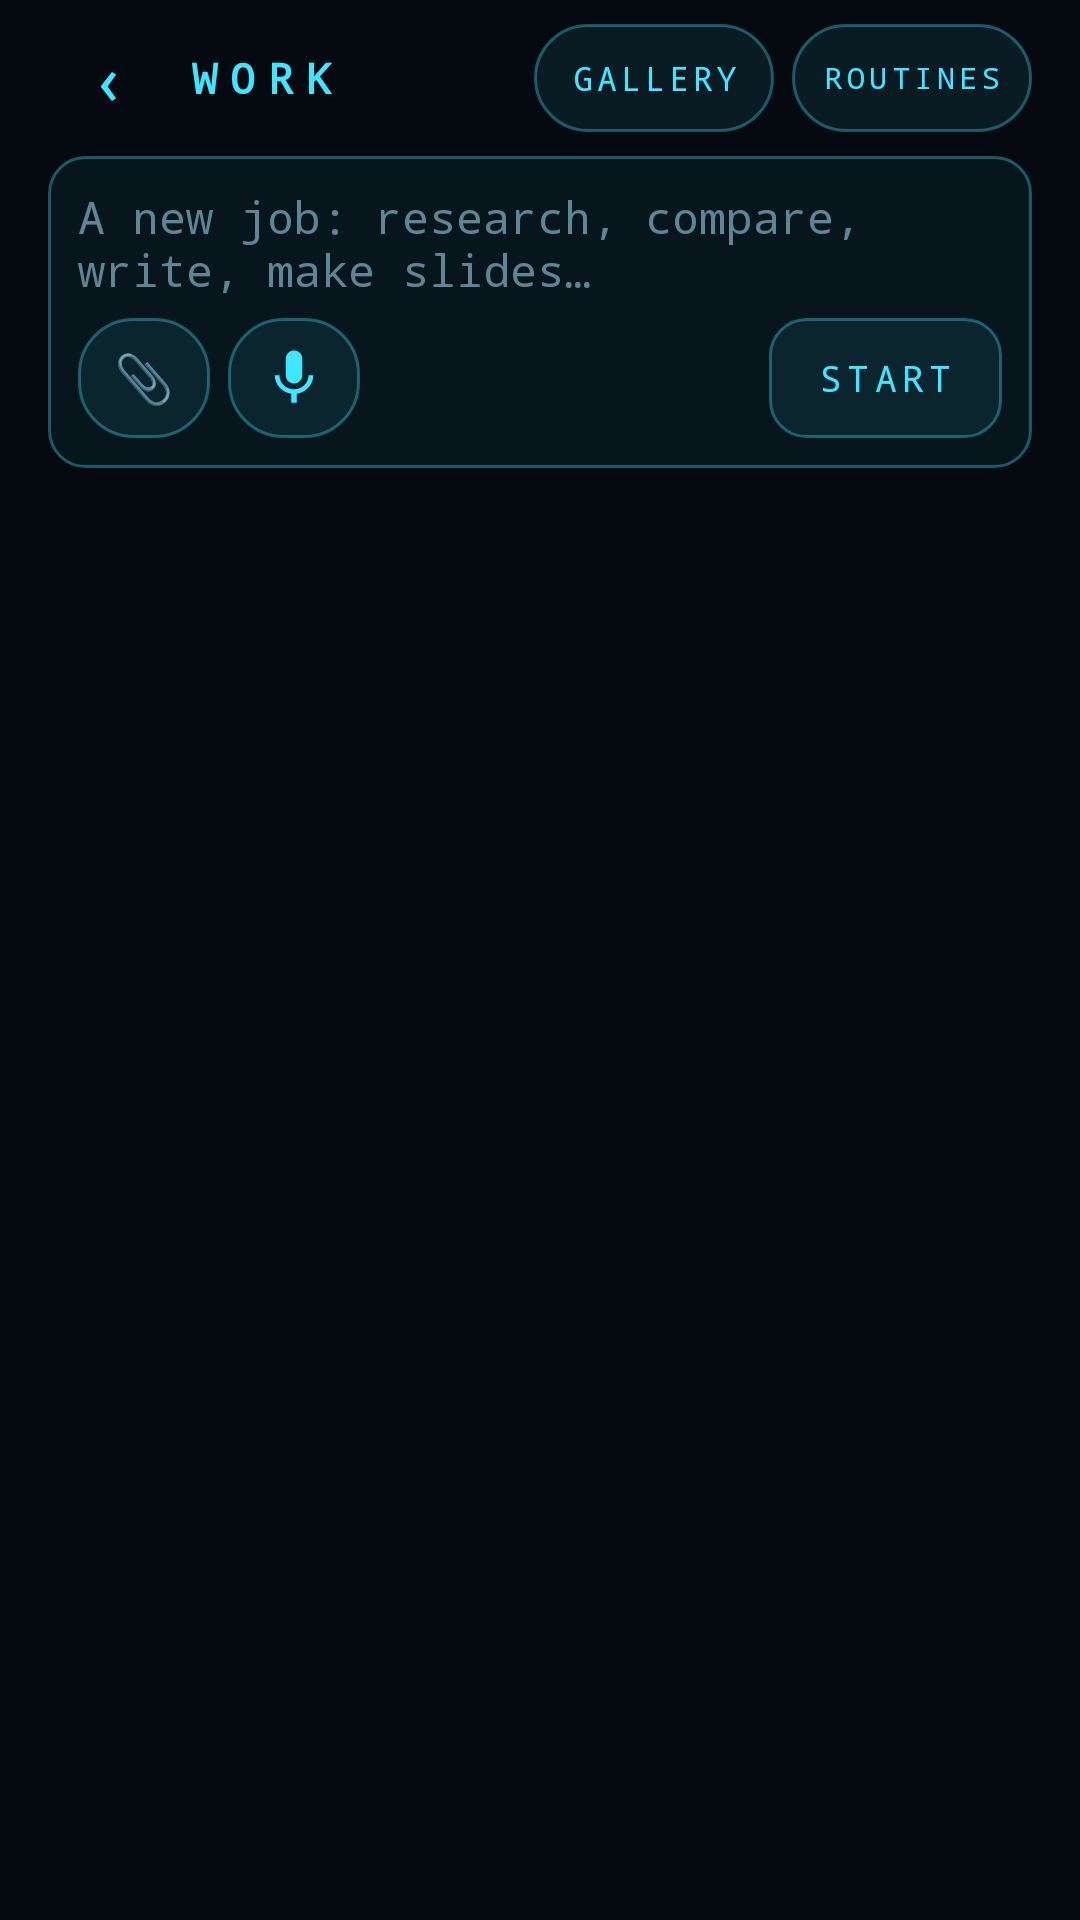

Named icons in this screenshot (1080px x 1920px) and their bounding boxes, (x1, y1, x2, y2):
Dictate: (228, 318, 360, 438)
